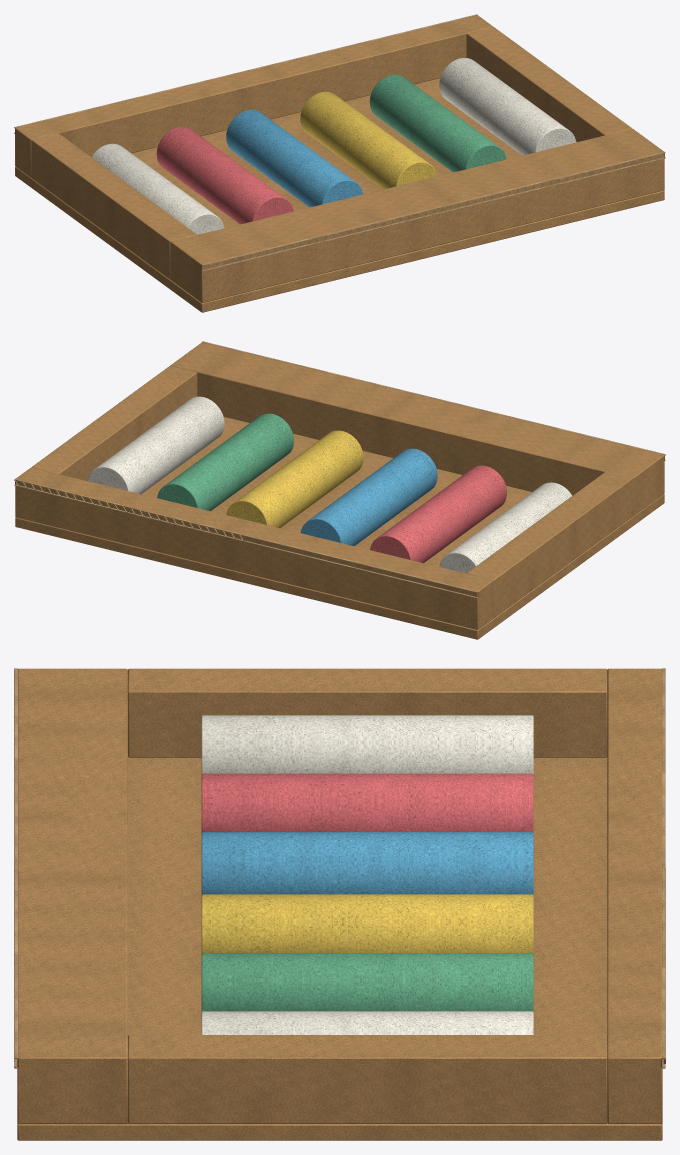
Rendered from 4-open-chalk-roof-tray-1.fbx.
3 views of the same model, one above another, from view 1: azimuth 30°, elevation 25°; view 2: azimuth 150°, elevation 25°; view 3: azimuth 270°, elevation 25° (orthographic). The views are drawn at different scales.
Visible parts, largest first — view 1: open-chalk-roof-tray-1; view 2: open-chalk-roof-tray-1; view 3: open-chalk-roof-tray-1.
Part boxes in pixels (bbox=[...]): open-chalk-roof-tray-1: bbox=[14, 14, 665, 312]; open-chalk-roof-tray-1: bbox=[14, 341, 665, 639]; open-chalk-roof-tray-1: bbox=[14, 668, 665, 1140].
Bounding box in the file's own units: 10000 × 1000 × 7072.
1 material, 1 textured.
